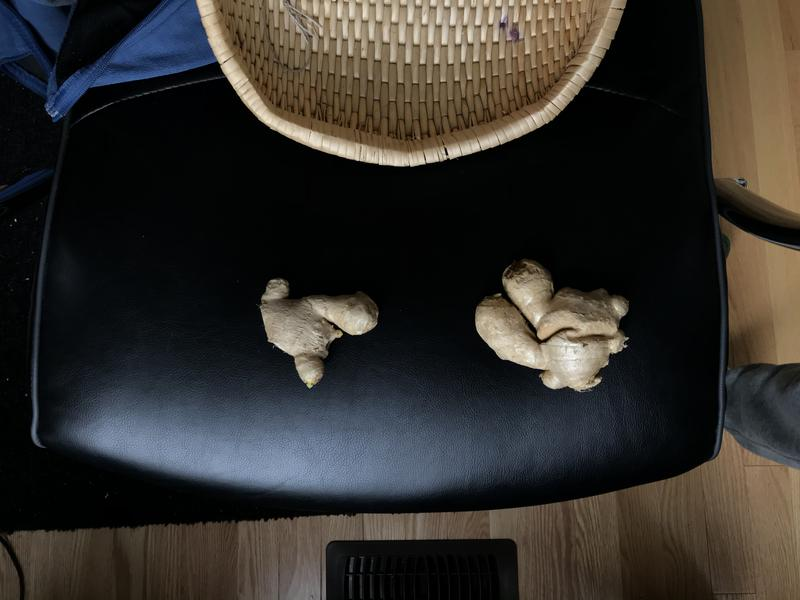ginger: (466, 253, 644, 402), (254, 272, 388, 395)
